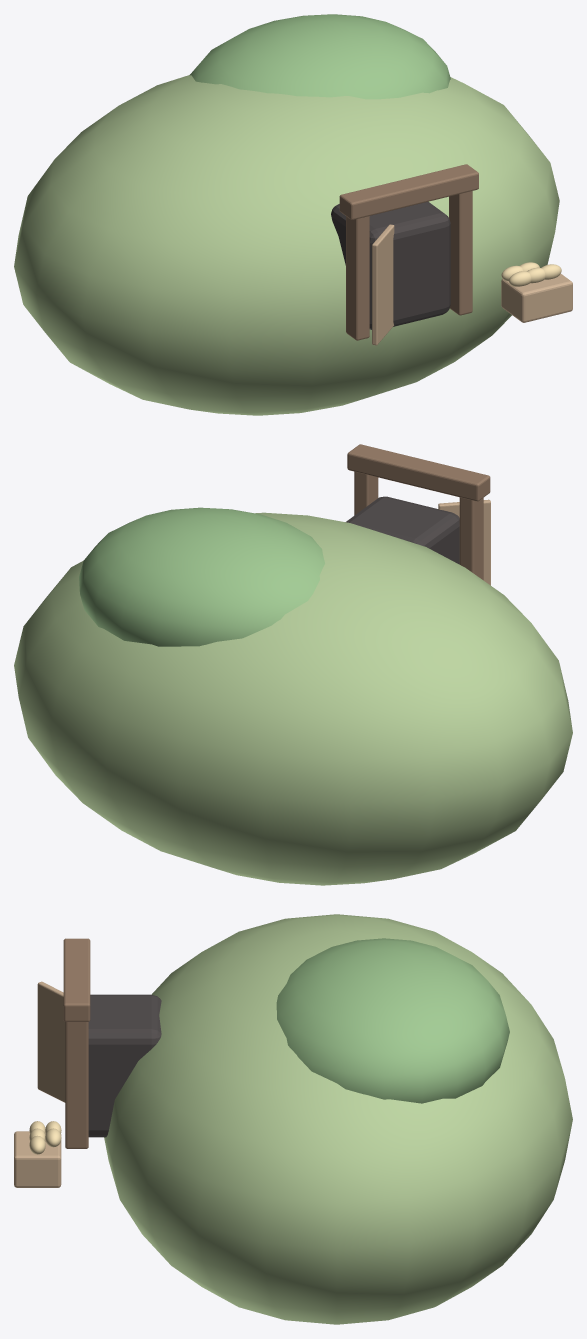
File: ginger_cave.glb
3 renders of one model, top to bottom at view 1: azimuth 30°, elevation 25°; view 2: azimuth 150°, elevation 25°; view 3: azimuth 270°, elevation 25°, orthographic. The views are drawn at different scales.
Visible parts, largest first — view 1: ginger_cave; view 2: ginger_cave; view 3: ginger_cave.
Part boxes in pixels (x1,y1,x2,y2): ginger_cave: (14,14,572,415); ginger_cave: (14,444,572,885); ginger_cave: (14,914,572,1324).
Bounding box in the file's own units: 7.8 × 4.81 × 7.1.
